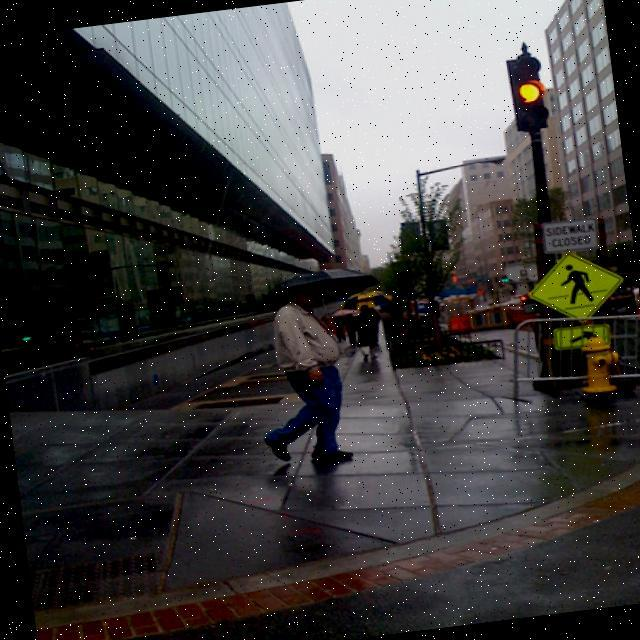fire_hydrant: (576, 332, 622, 394)
